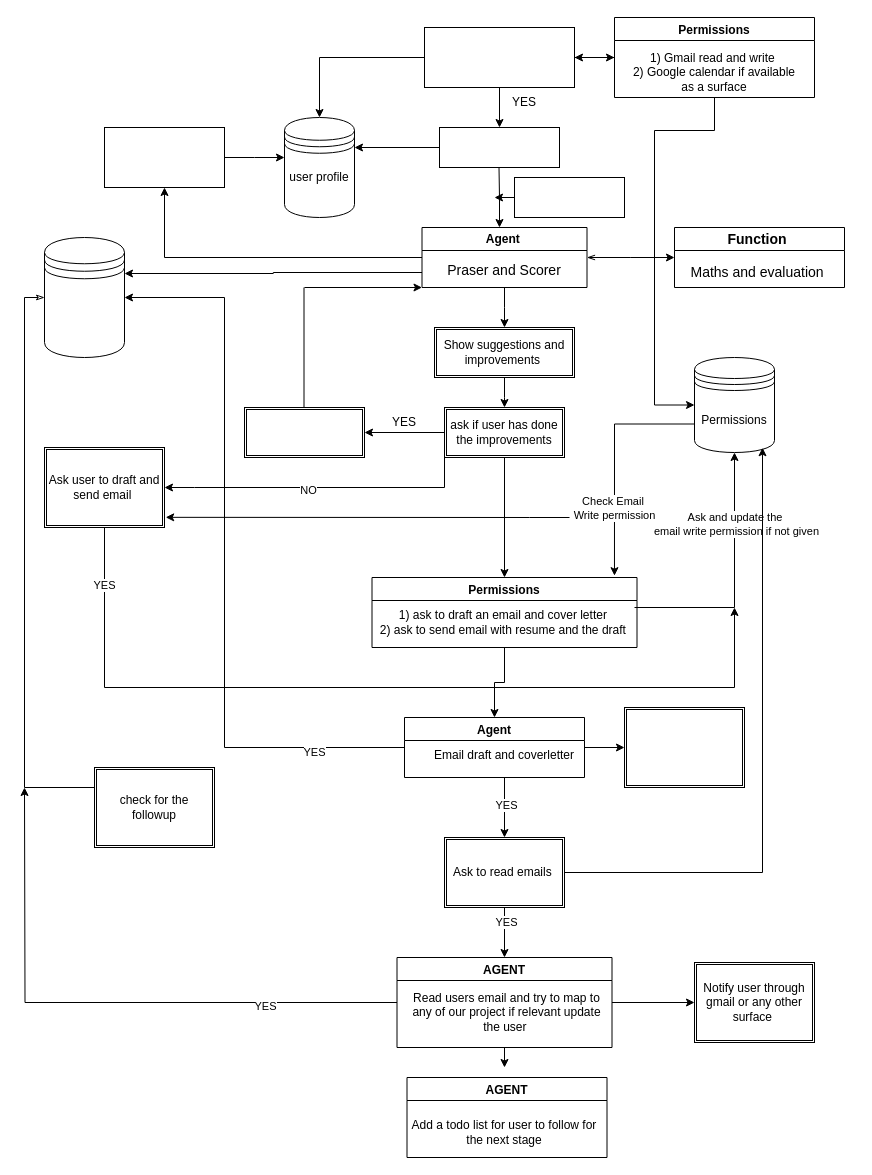
Image size: 872x1175. Some labels were removed from this diagram. Each missing label, with the box of its shape:
Ask for the new resumes: (244, 406, 364, 458)
Company application and status: (44, 236, 124, 358)
Create profile: (438, 126, 560, 168)
JD and Resume: (514, 176, 624, 218)
Suggest some topics to work on meanwhile: (624, 706, 744, 788)
Update the Profile with skills etc: (104, 126, 224, 188)
user authentication: (424, 26, 574, 88)
